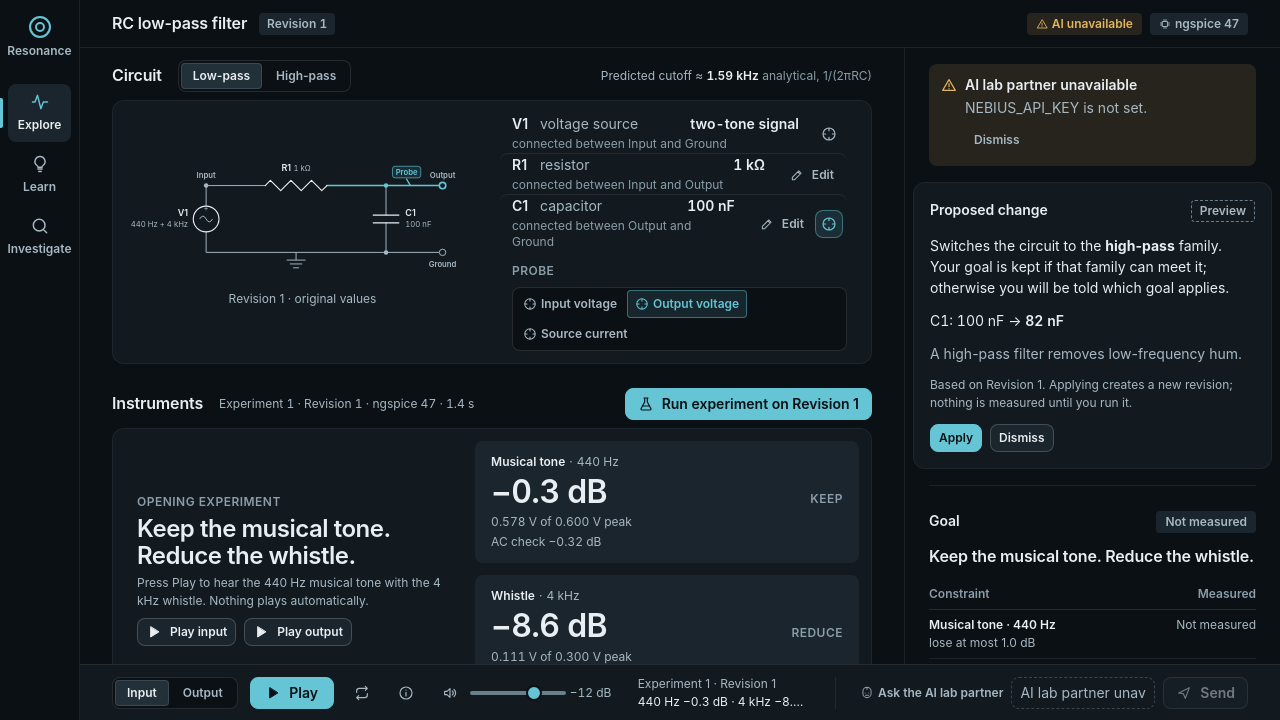
Test: applying an agent proposal that switches family › otherwise switches to the family's opening goal and says so visibly
This screenshot has width=1280, height=720.
What coordinates should you click on to do the following:
click the button "Apply"
I would click on:
 (956, 438)
Its box is [930, 424, 982, 452].
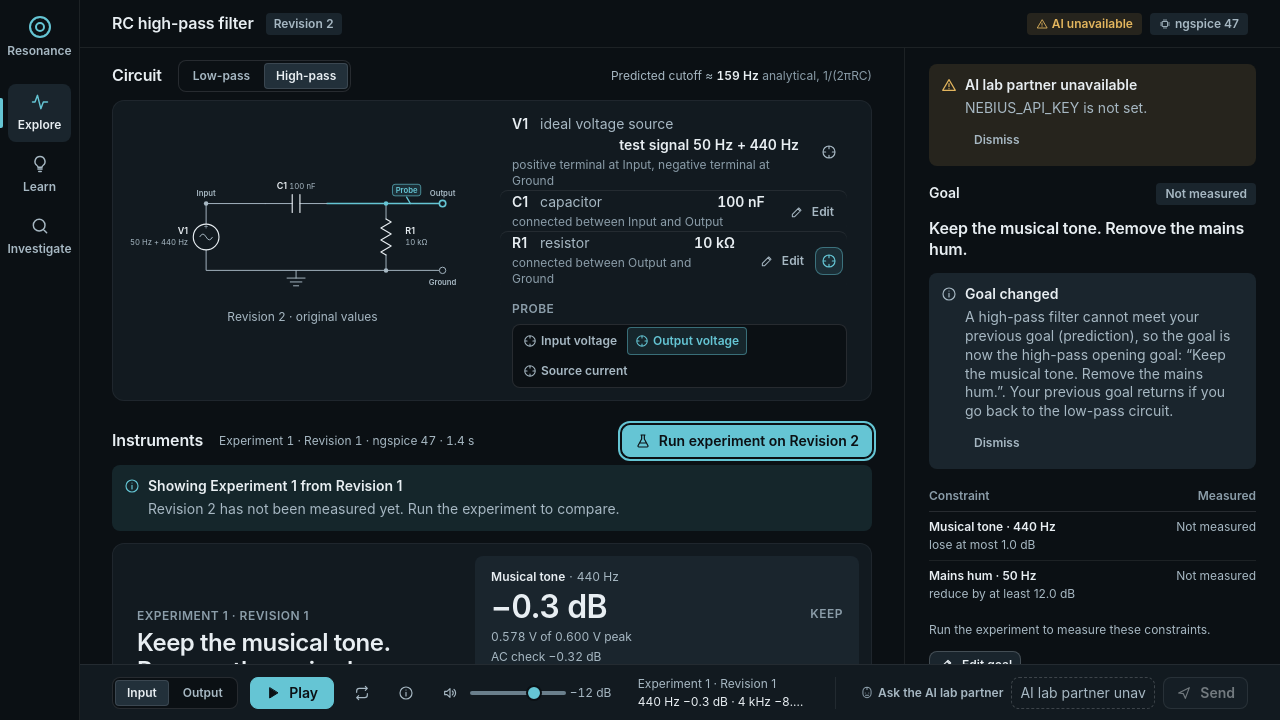
Result: the text "Goal changed" is shown at [965, 285, 1058, 302]
Result: the element "Goal" shows "A high-pass filter cannot meet your previous goal (prediction), so the goal is now the high-pass opening goal: “Keep the musical tone. Remove the mains hum." at [965, 308, 1230, 419]
What coordinates should you click on to do the following:
click the button with aria-label "Dismiss goal change note"
I would click on:
 (997, 443)
Its box is [965, 429, 1028, 457].
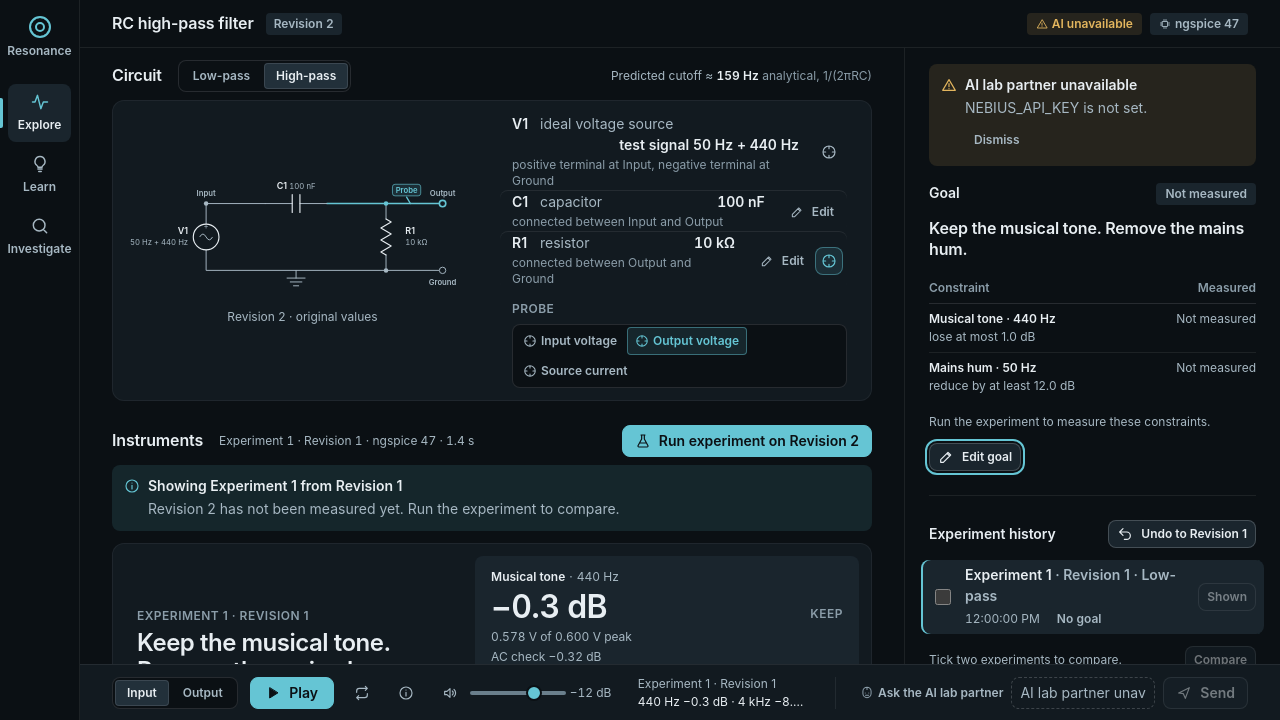
Result: the text "Goal changed" is gone
